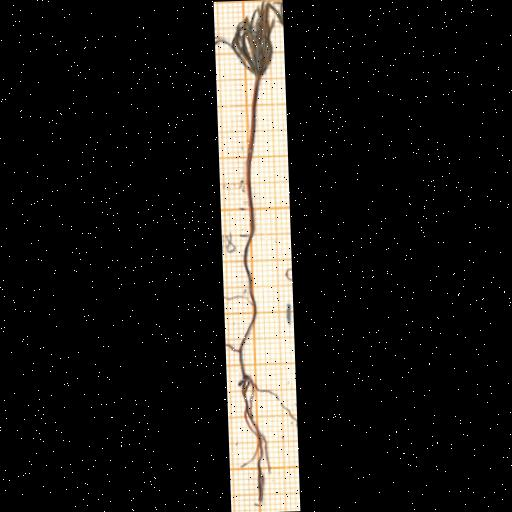flowerPinus: (227, 0, 274, 76)
rootPinus: (232, 241, 275, 502)
stemPinus: (243, 77, 259, 277)
